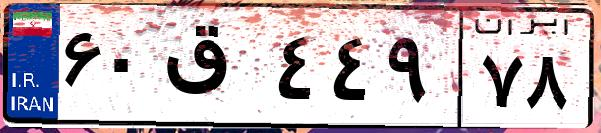0: (110, 28, 158, 98)
4: (270, 28, 330, 110), (330, 28, 385, 110)
6: (57, 26, 110, 100)
7: (475, 38, 525, 113)
8: (525, 38, 570, 115)
9: (385, 28, 445, 110)
ق: (158, 20, 270, 120)
